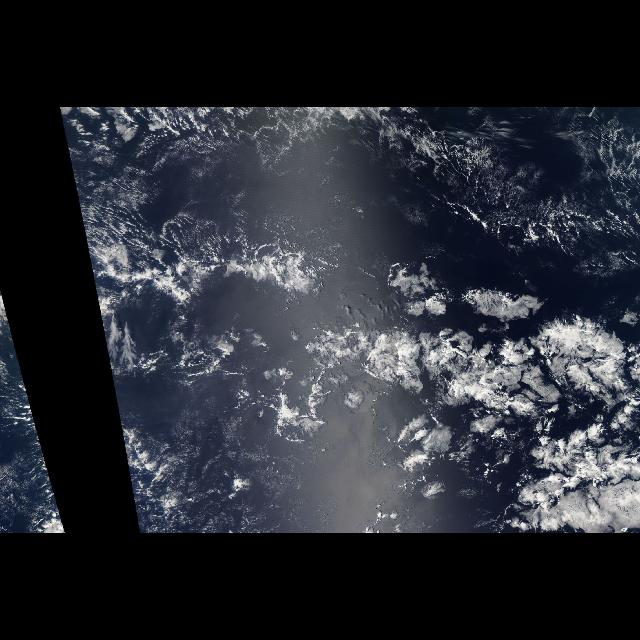Flower: (128, 202, 640, 524)
Gravel: (86, 206, 238, 360)
Sugar: (74, 115, 356, 261), (423, 121, 635, 253), (120, 418, 314, 532)
